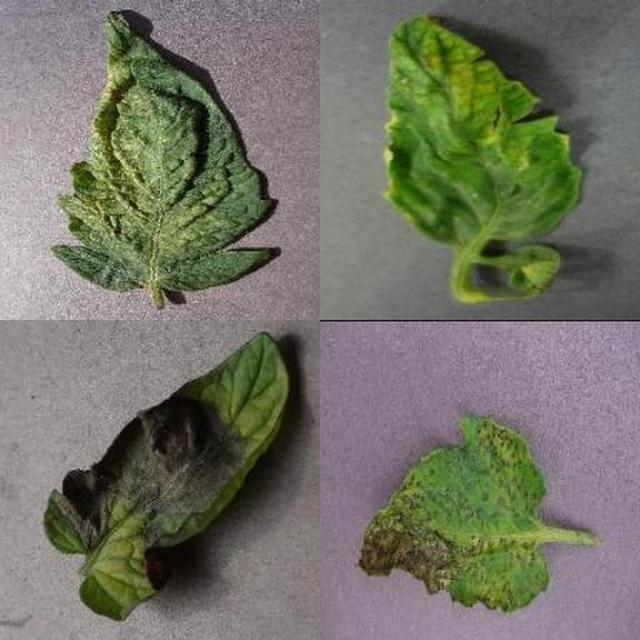Spider Mites Leaf: (229, 186, 640, 640)
